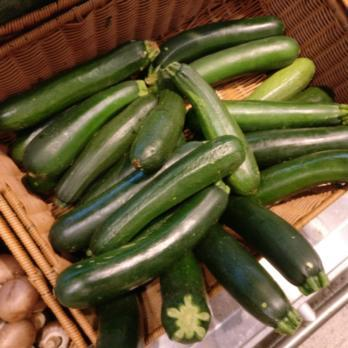Cucumber: (52, 91, 278, 339), (155, 14, 348, 201), (66, 50, 183, 106), (0, 89, 70, 174)
